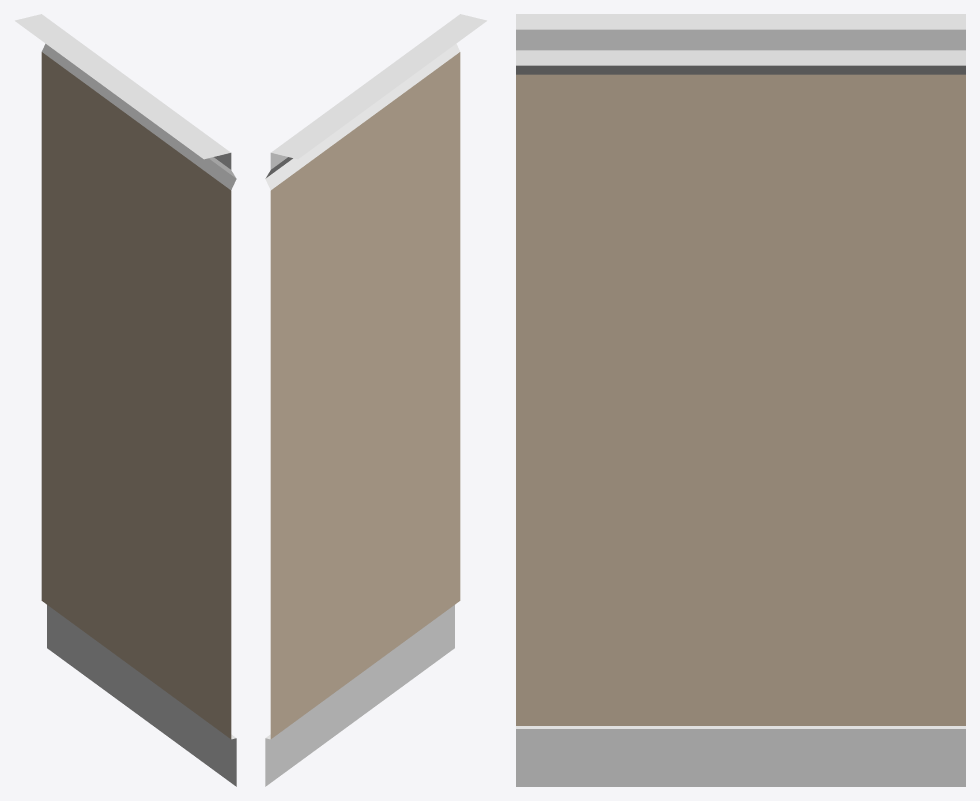
File: g_t_KitchenWall.fbx
The picture shows the model from 3 angles, left to right: view 1: azimuth 30°, elevation 25°; view 2: azimuth 150°, elevation 25°; view 3: azimuth 270°, elevation 25°; orthographic projection. The views are drawn at different scales.
Parts seen in each view (by area): view 1: g_t_KitchenWall; view 2: g_t_KitchenWall; view 3: g_t_KitchenWall.
Part boxes in pixels (left/top/right/bottom): g_t_KitchenWall: left=15, top=14, right=236, bottom=786; g_t_KitchenWall: left=265, top=14, right=486, bottom=786; g_t_KitchenWall: left=516, top=14, right=965, bottom=786.
Size of the model in its own units: 9.99 by 185 by 100.
